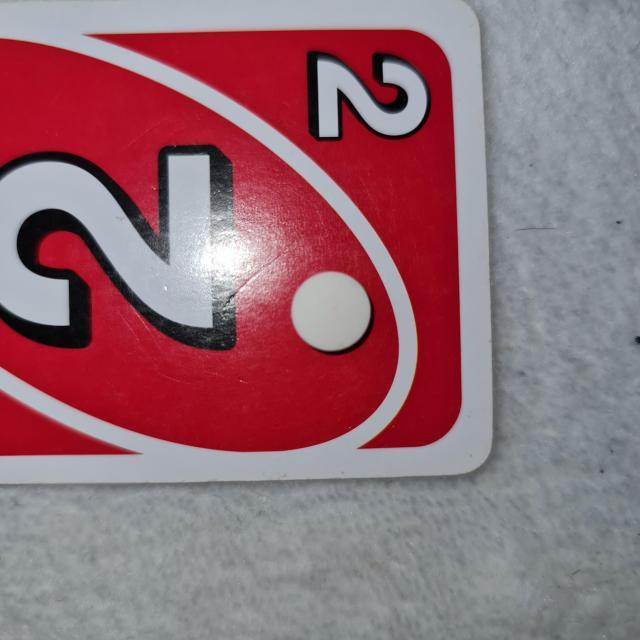pill: (288, 270, 376, 354)
